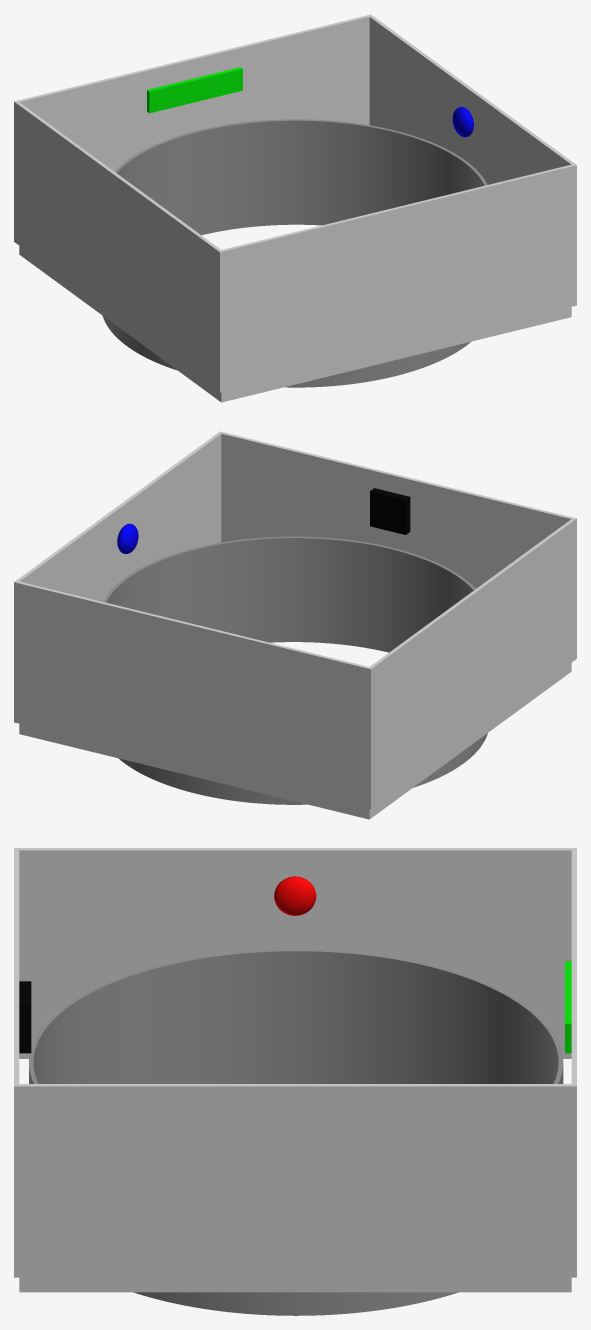
File: wall3.FBX
The picture shows the model from 3 angles, top to bottom: view 1: azimuth 30°, elevation 25°; view 2: azimuth 150°, elevation 25°; view 3: azimuth 270°, elevation 25°; orthographic projection. The views are drawn at different scales.
Visible parts, largest first — view 1: Box001, Cylinder001, Box002, Sphere002; view 2: Box001, Cylinder001, Box003, Sphere002; view 3: Box001, Cylinder001, Sphere001, Box003, Box002.
Part boxes in pixels (box(x1,y1,x2,y2)): Box001: box(14, 14, 576, 402); Cylinder001: box(102, 119, 487, 387); Box002: box(147, 67, 242, 113); Sphere002: box(452, 107, 473, 137); Box001: box(14, 431, 576, 819); Cylinder001: box(103, 536, 487, 804); Box003: box(370, 488, 410, 534); Sphere002: box(117, 523, 138, 553); Box001: box(14, 848, 576, 1292); Cylinder001: box(29, 949, 563, 1315); Sphere001: box(274, 876, 316, 915); Box003: box(19, 981, 31, 1053); Box002: box(565, 961, 571, 1053).
Bounding box in the file's own units: 493 × 228 × 493.
